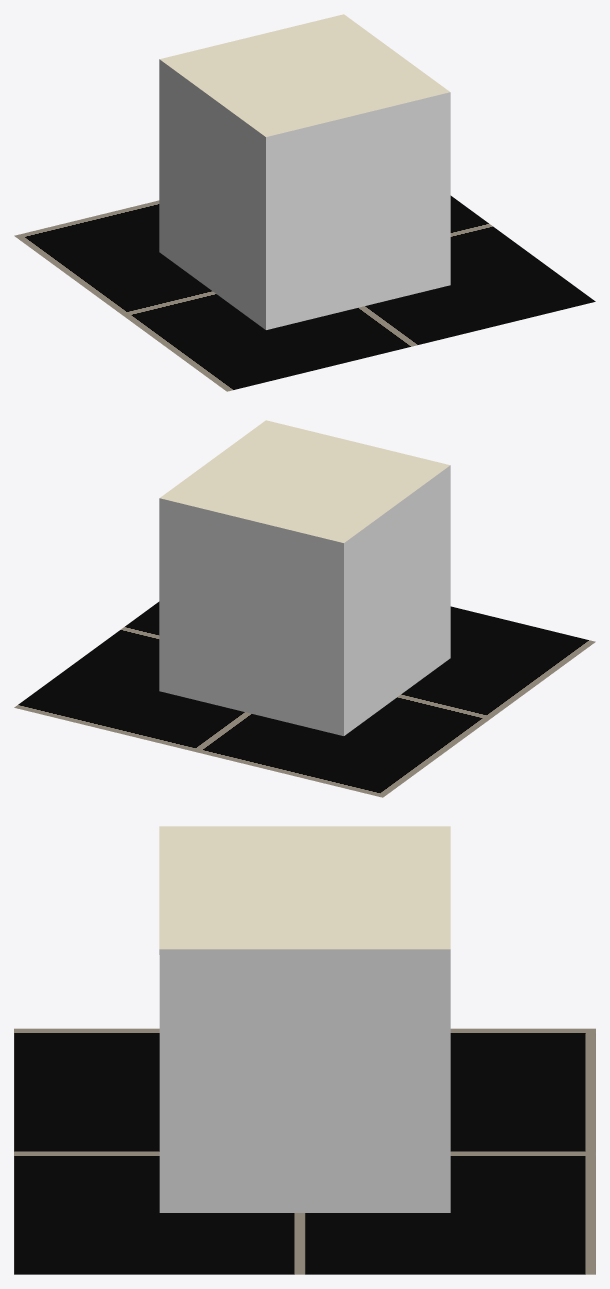
Rendered from Path_Terrain_Dirt_Flat_1x1.glb.
3 renders of one model, top to bottom at view 1: azimuth 30°, elevation 25°; view 2: azimuth 150°, elevation 25°; view 3: azimuth 270°, elevation 25°, orthographic. The views are drawn at different scales.
Parts seen in each view (by area): view 1: Path_Terrain_Dirt_Flat_1x1, Floor; view 2: Path_Terrain_Dirt_Flat_1x1, Floor; view 3: Path_Terrain_Dirt_Flat_1x1, Floor.
Part boxes in pixels (x1,y1,x2,y2): Path_Terrain_Dirt_Flat_1x1: (159,14,450,329); Floor: (14,195,595,391); Path_Terrain_Dirt_Flat_1x1: (159,420,450,735); Floor: (14,601,595,797); Path_Terrain_Dirt_Flat_1x1: (159,826,450,1212); Floor: (14,1028,595,1274).
Bounding box in the file's own units: 200 × 100 × 200.
3 materials, 1 textured.
